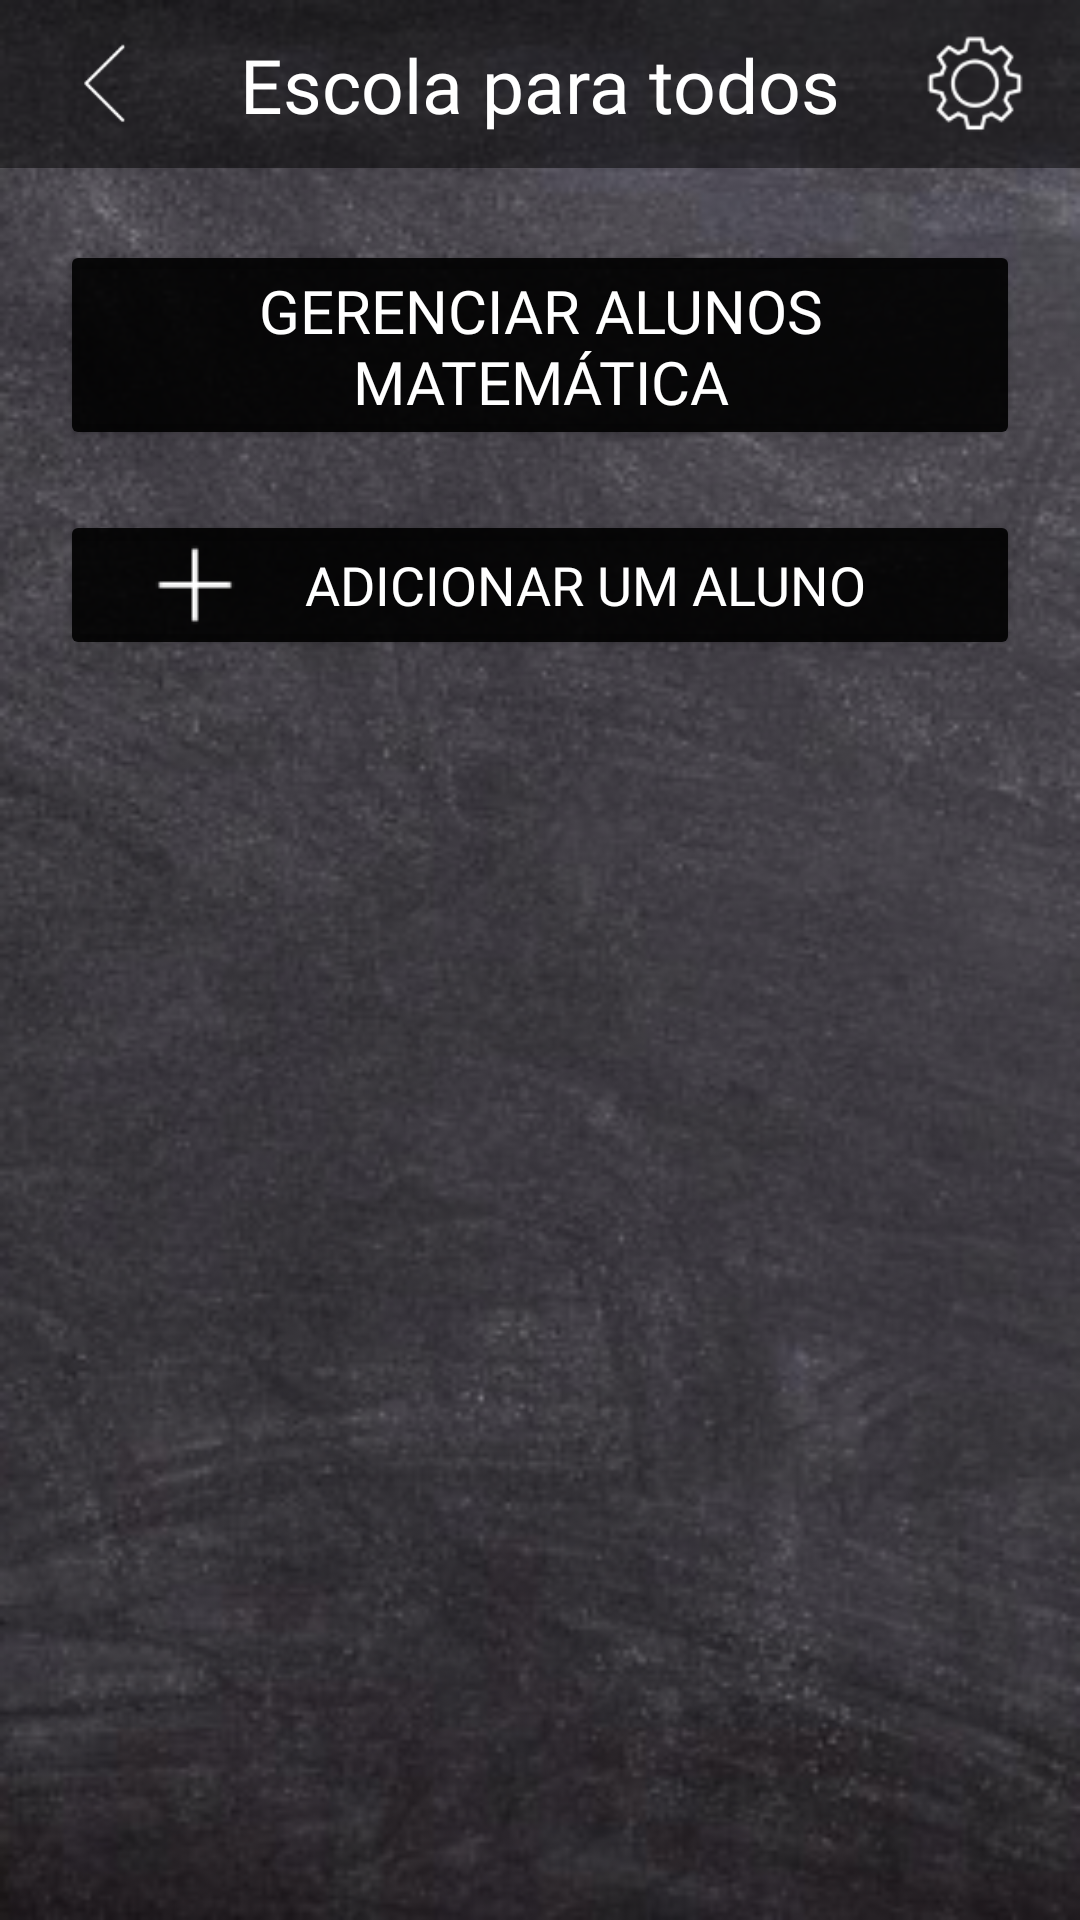

Where to tap for icons on this 1080 x 1920 app screen, as (x,y):
config: (975,83)
voltar: (104,83)
